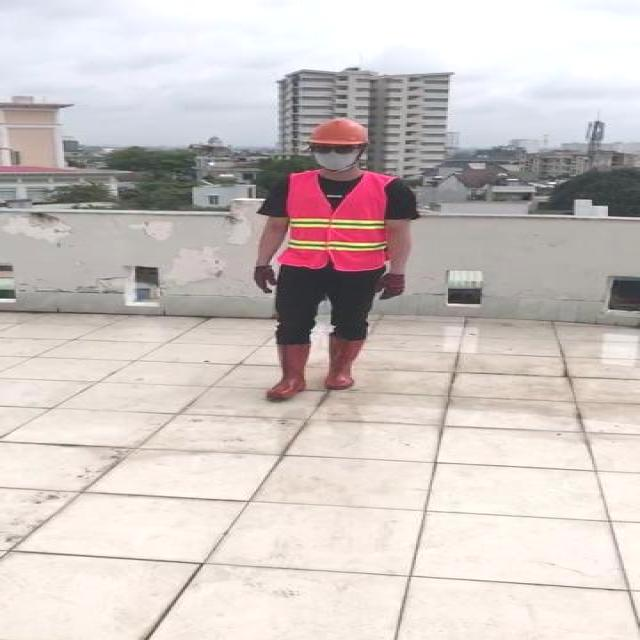boots: (268, 343, 313, 399), (325, 335, 368, 390)
face_mask: (312, 144, 360, 168)
glasses: (312, 141, 362, 156)
hand_glove: (252, 264, 282, 295), (375, 272, 405, 301)
head_helmet: (305, 117, 376, 146)
person: (245, 115, 423, 406)
vest: (281, 171, 395, 268)
